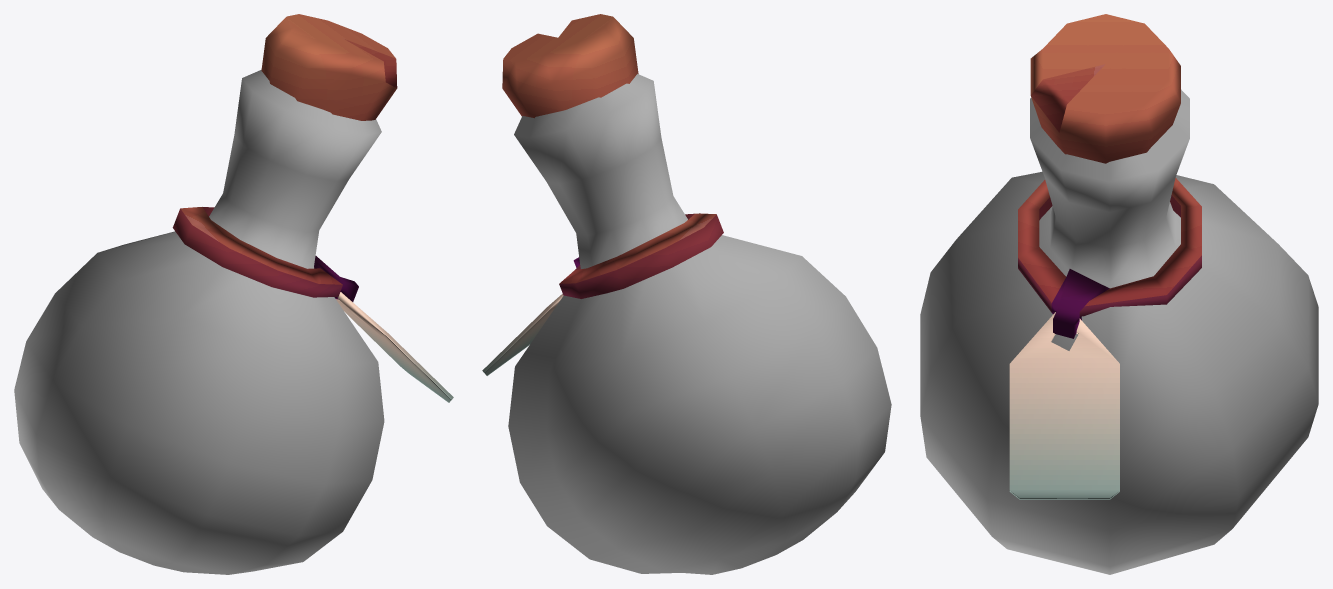
Rendered from Potion2.fbx.
3 views of the same model, side by side, from view 1: azimuth 30°, elevation 25°; view 2: azimuth 150°, elevation 25°; view 3: azimuth 270°, elevation 25° (orthographic). The views are drawn at different scales.
Parts seen in each view (by area): view 1: Glass, Extra; view 2: Glass, Extra; view 3: Glass, Extra.
Part boxes in pixels (box(x1,y1,x2,y2)): Glass: box(14, 69, 384, 574); Extra: box(172, 14, 453, 402); Glass: box(508, 74, 891, 574); Extra: box(482, 14, 723, 375); Glass: box(920, 89, 1318, 574); Extra: box(1009, 14, 1201, 499).
Size of the model in its own units: 2.23 by 2.89 by 1.82.
